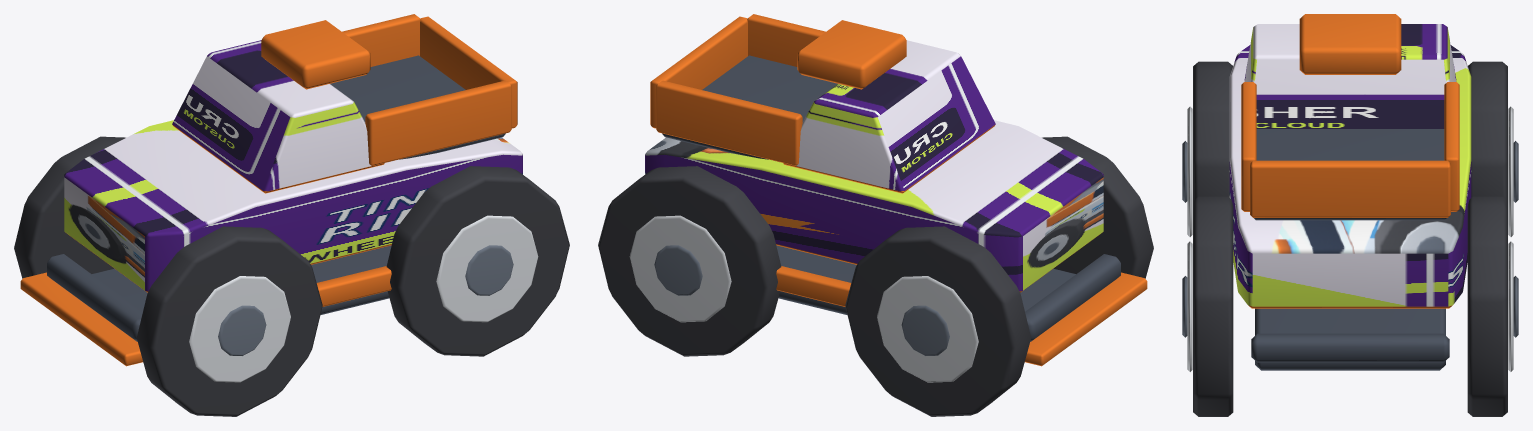
3 views of the same model, side by side, from view 1: azimuth 30°, elevation 25°; view 2: azimuth 150°, elevation 25°; view 3: azimuth 270°, elevation 25° (orthographic). The views are drawn at different scales.
Visible parts, largest first — view 1: BW-01_connected_shell, BW-01_cabin, Tire, Tire.002, cargo side, Rim.002, Rim, Tire.001, custom equipment, cargo floor, custom chin, cargo tail (+6 smaller); view 2: BW-01_connected_shell, BW-01_cabin, Tire.001, Tire.003, cargo side.001, Rim.003, Rim.001, Tire, custom equipment, cargo floor, custom chin, cargo tail (+6 smaller); view 3: BW-01_connected_shell, BW-01_cabin, cargo tail, Tire.002, Tire.003, underbody, cargo floor, custom equipment, rear bumper, Tire, Tire.001, cargo side (+9 smaller).
Boxes of the visible parts, box(x1,y1,x2,y2) form: BW-01_connected_shell: box(64, 120, 522, 292); BW-01_cabin: box(172, 40, 384, 193); Tire: box(136, 226, 322, 416); Tire.002: box(386, 166, 569, 356); cargo side: box(365, 80, 511, 165); Rim.002: box(436, 215, 538, 322); Rim: box(189, 276, 290, 382); Tire.001: box(14, 136, 125, 278); custom equipment: box(261, 20, 370, 89); cargo floor: box(330, 55, 505, 159); custom chin: box(20, 272, 142, 366); cargo tail: box(420, 16, 517, 128); BW-01_connected_shell: box(645, 120, 1103, 292); BW-01_cabin: box(783, 40, 995, 193); Tire.001: box(845, 226, 1031, 416); Tire.003: box(598, 166, 781, 356); cargo side.001: box(656, 80, 802, 165); Rim.003: box(629, 215, 731, 322); Rim.001: box(877, 276, 978, 382); Tire: box(1042, 136, 1153, 278); custom equipment: box(797, 20, 906, 89); cargo floor: box(662, 55, 837, 159); custom chin: box(1025, 272, 1147, 366); cargo tail: box(650, 16, 747, 128); BW-01_connected_shell: box(1229, 45, 1471, 308); BW-01_cabin: box(1244, 24, 1456, 128); cargo tail: box(1250, 160, 1450, 217); Tire.002: box(1193, 196, 1233, 416); Tire.003: box(1467, 196, 1507, 416); underbody: box(1255, 308, 1445, 370); cargo floor: box(1254, 129, 1446, 220); custom equipment: box(1299, 14, 1401, 74); rear bumper: box(1251, 333, 1449, 362); Tire: box(1193, 61, 1232, 200); Tire.001: box(1468, 61, 1507, 200); cargo side: box(1241, 82, 1256, 211).
Size of the model in its own units: 358 by 230 by 217.
